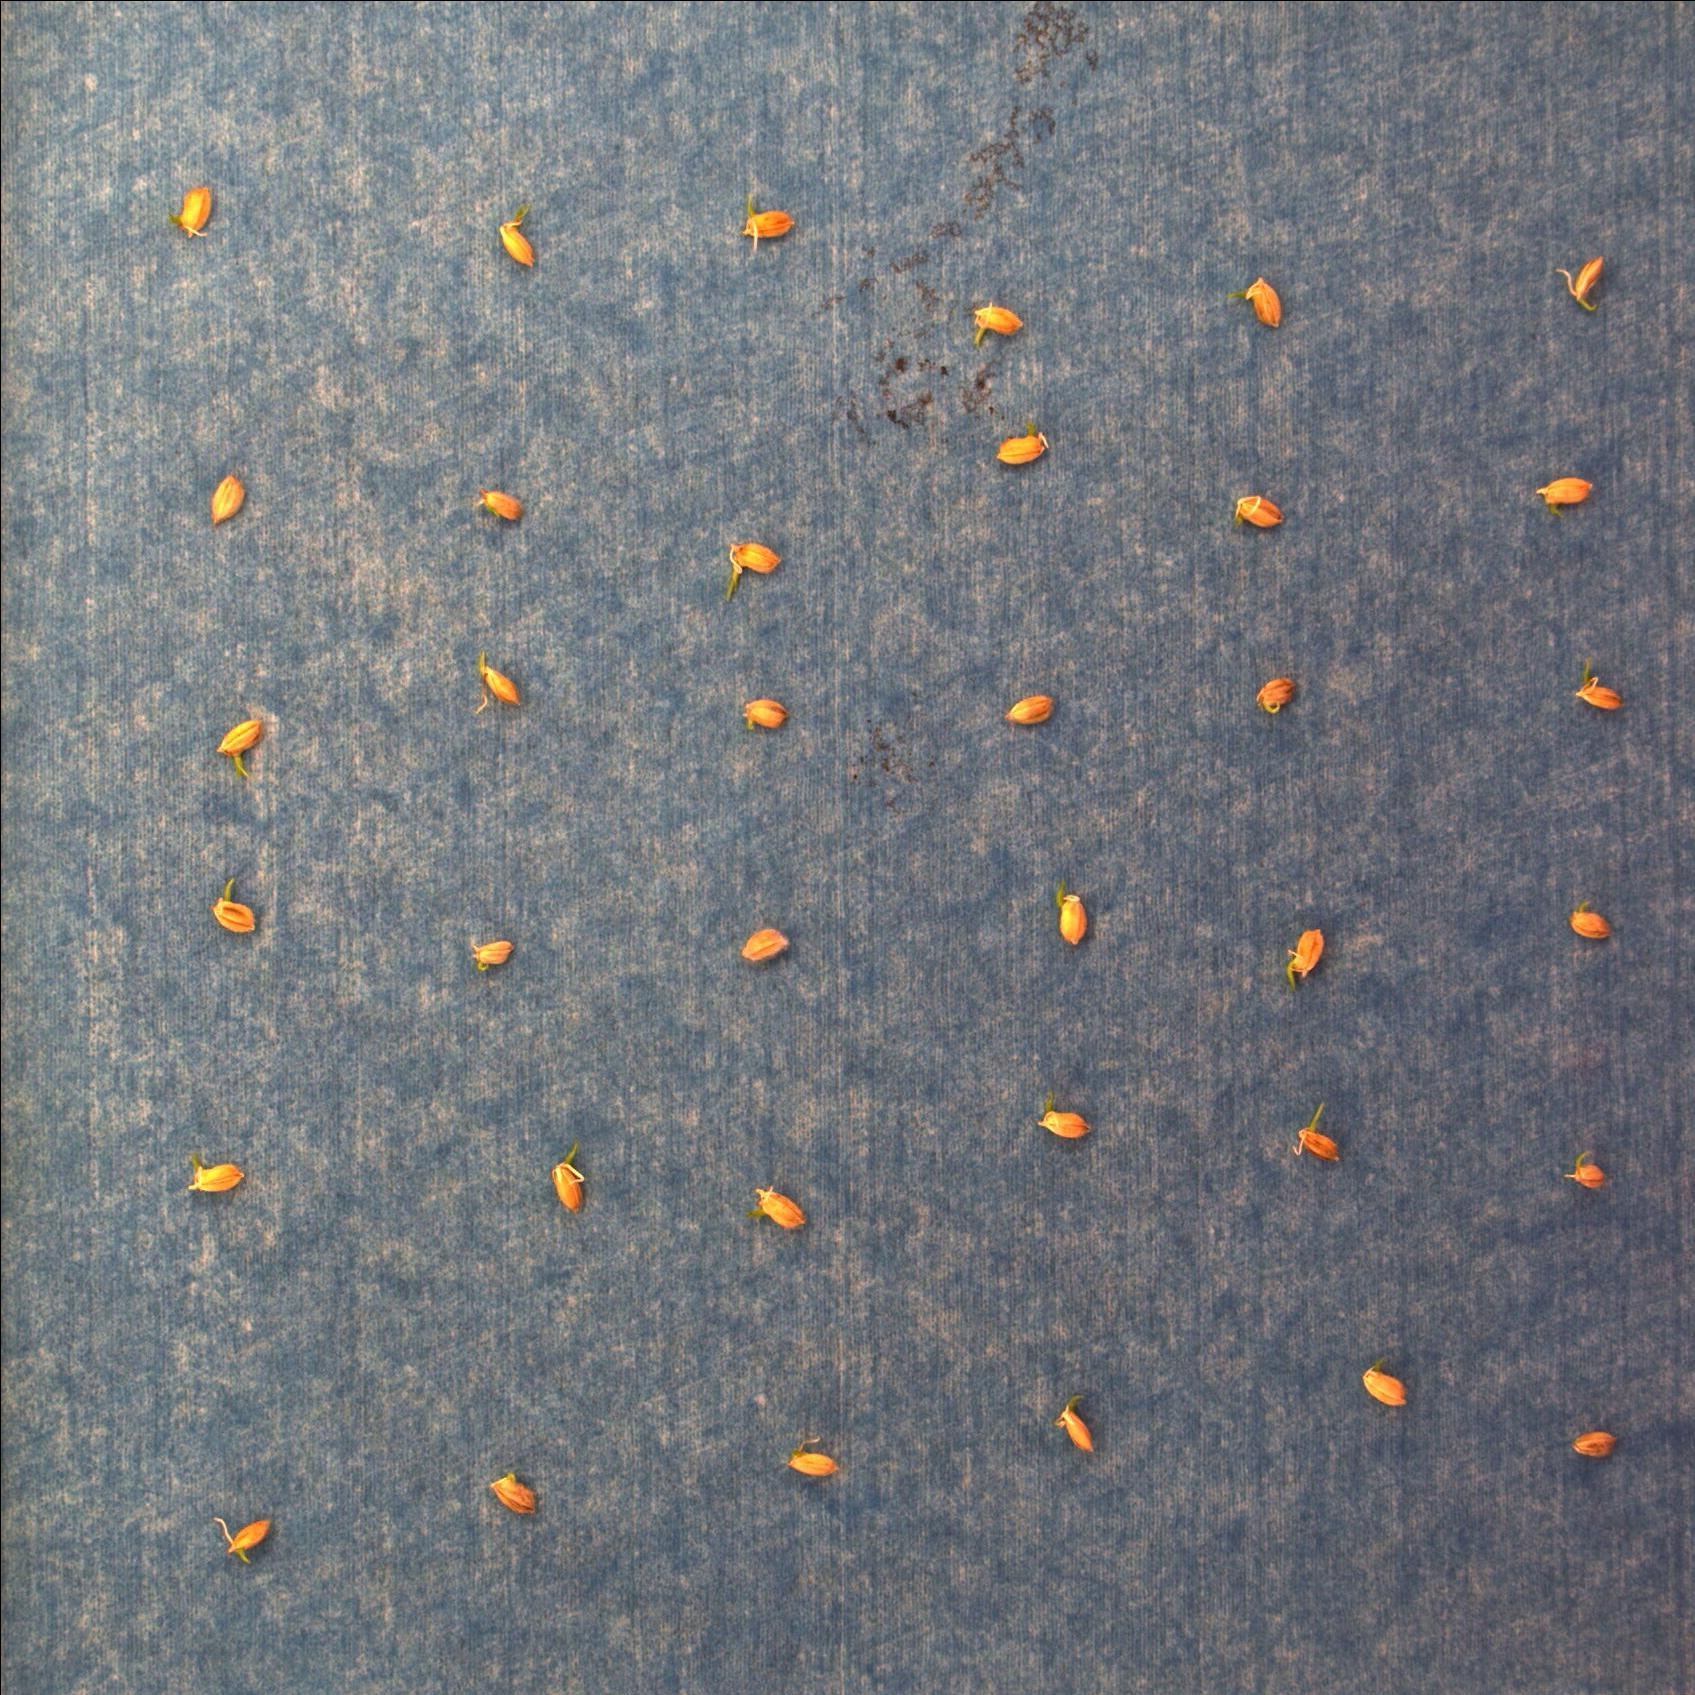not sprout: (213, 1507, 275, 1566), (470, 650, 523, 719), (1554, 258, 1607, 314), (1055, 1391, 1097, 1458), (1574, 658, 1625, 712), (753, 1184, 810, 1232), (1534, 473, 1596, 517), (498, 200, 539, 265), (553, 1141, 587, 1214), (1284, 927, 1326, 986), (487, 1471, 537, 1520), (1054, 875, 1088, 945), (1245, 272, 1285, 331), (186, 1153, 245, 1194), (973, 301, 1028, 345), (785, 1437, 838, 1479), (1236, 492, 1290, 531), (1001, 692, 1059, 728), (1360, 1364, 1406, 1408), (740, 925, 790, 965), (1038, 1107, 1093, 1142), (210, 470, 244, 526), (995, 433, 1052, 466), (1253, 675, 1298, 716), (179, 185, 214, 234), (480, 487, 525, 525), (1568, 903, 1613, 941), (470, 934, 512, 973), (745, 697, 790, 733), (1571, 1428, 1619, 1461), (1565, 1150, 1607, 1187)
sprout: (726, 539, 782, 607), (1291, 1101, 1346, 1166), (213, 714, 265, 781), (747, 186, 801, 250), (211, 879, 258, 939)
